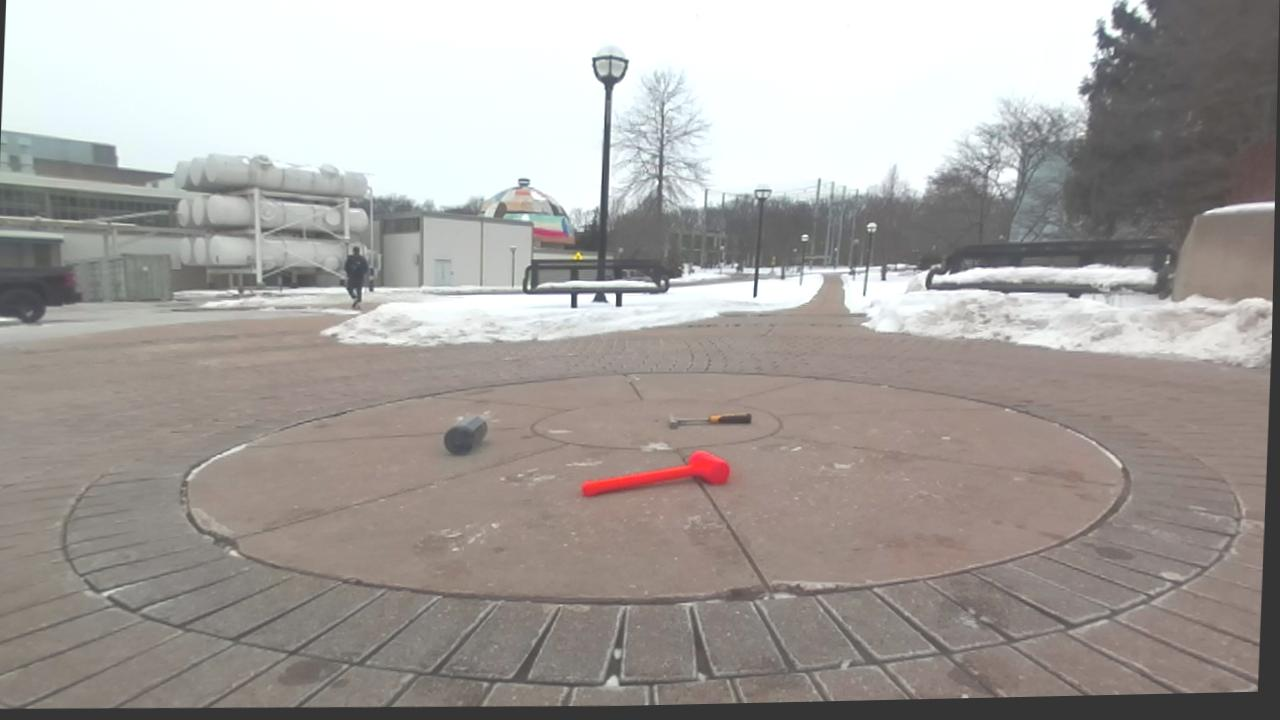bottle: (443, 416, 487, 455)
mallet: (583, 450, 730, 495)
pick: (670, 413, 751, 428)
